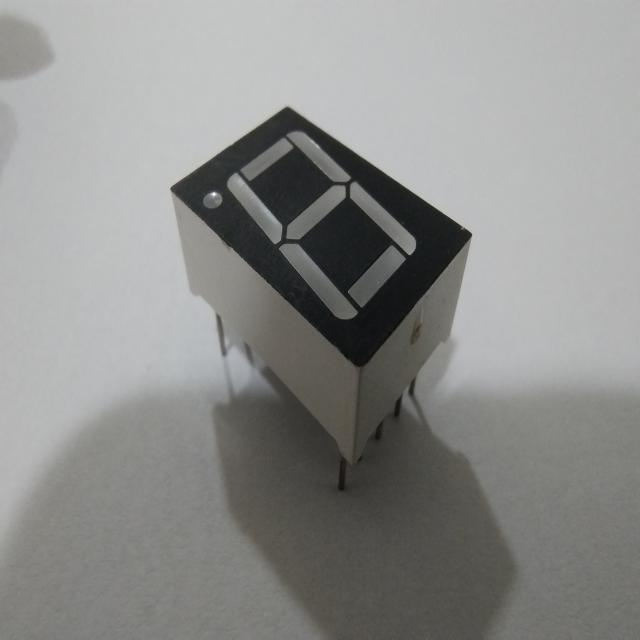7_segments: (150, 96, 485, 502)
